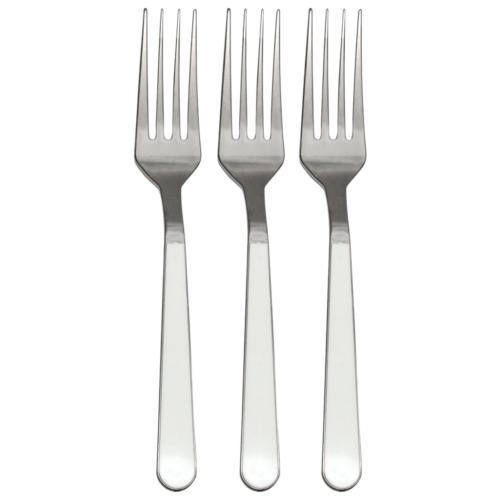Fork: (217, 8, 285, 492), (299, 8, 367, 492), (134, 8, 202, 492)
